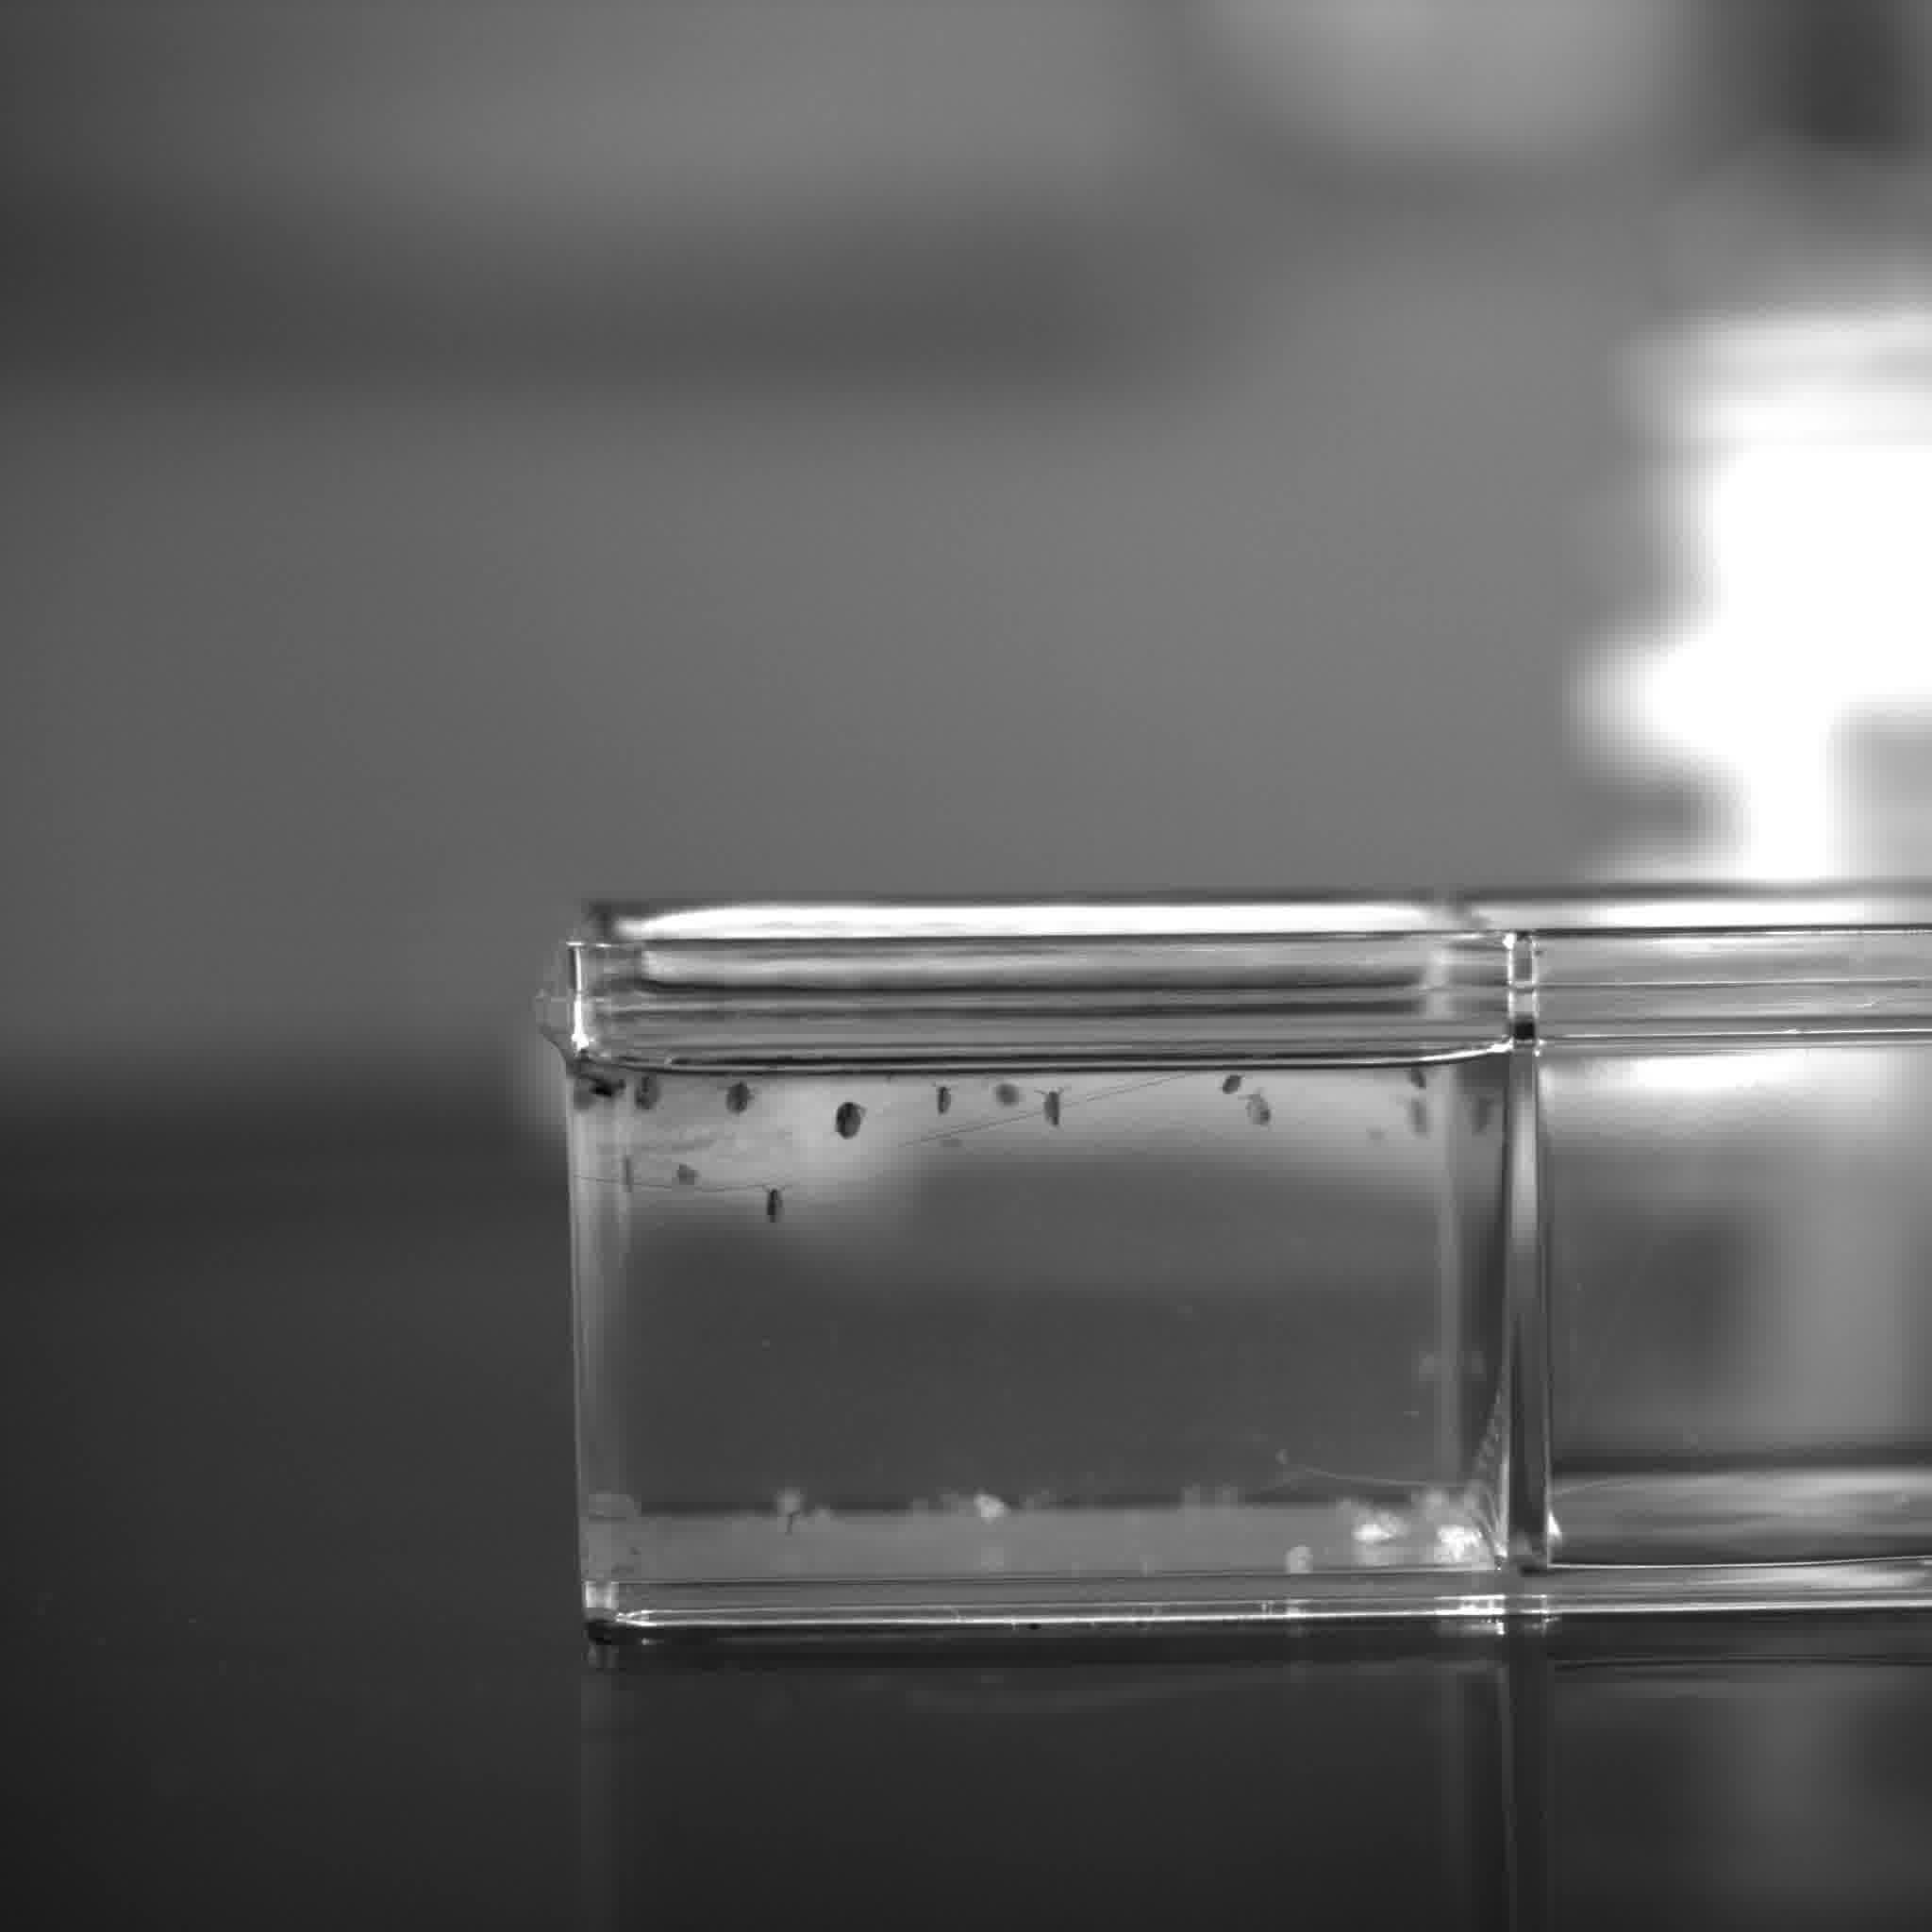Daphnia: (722, 1077, 768, 1122), (828, 1100, 869, 1148), (759, 1180, 800, 1224), (1405, 1095, 1437, 1148), (1035, 1086, 1074, 1127), (632, 1074, 665, 1113), (1246, 1086, 1272, 1131), (929, 1083, 955, 1118), (591, 1076, 628, 1100), (676, 1159, 704, 1189), (1410, 1067, 1431, 1097), (996, 1083, 1021, 1108), (1221, 1072, 1240, 1099)
